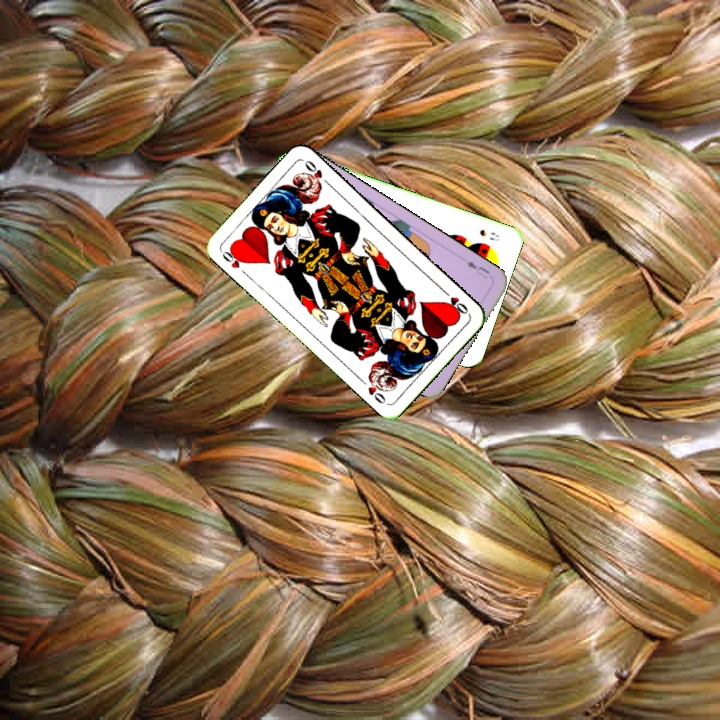EU: (462, 257, 492, 281)
HO: (217, 244, 250, 278), (438, 285, 471, 317)
S8: (475, 225, 502, 244)
